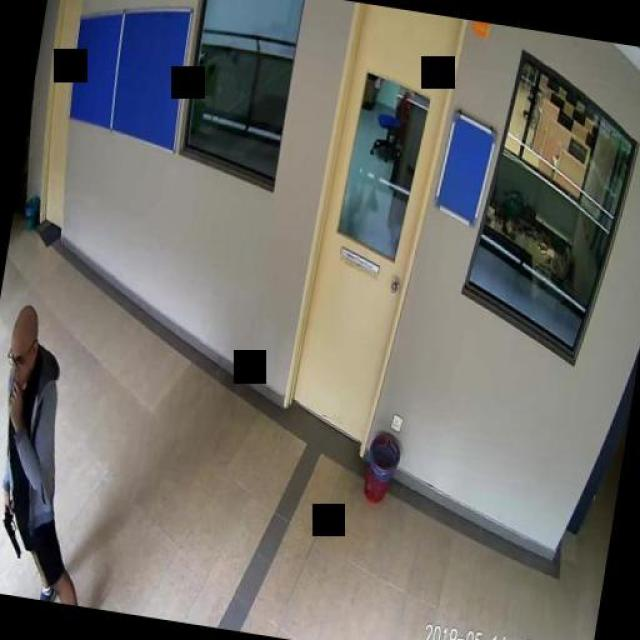gun: (0, 505, 24, 554)
